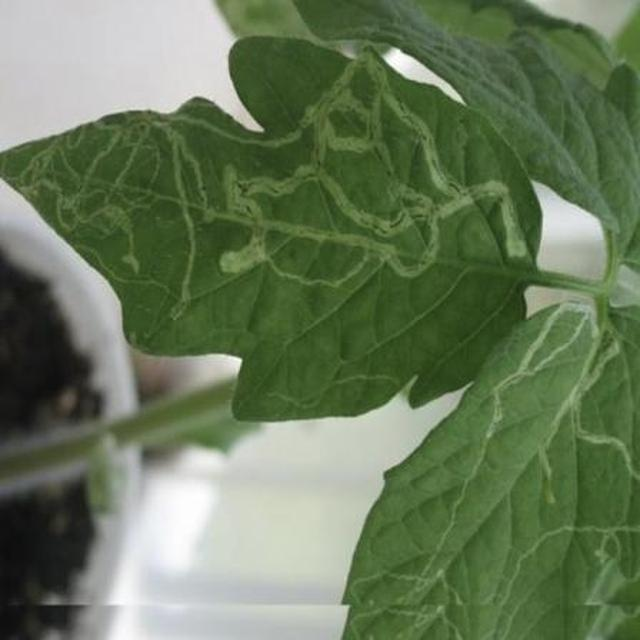Leaf Miner: (388, 326, 640, 640)
